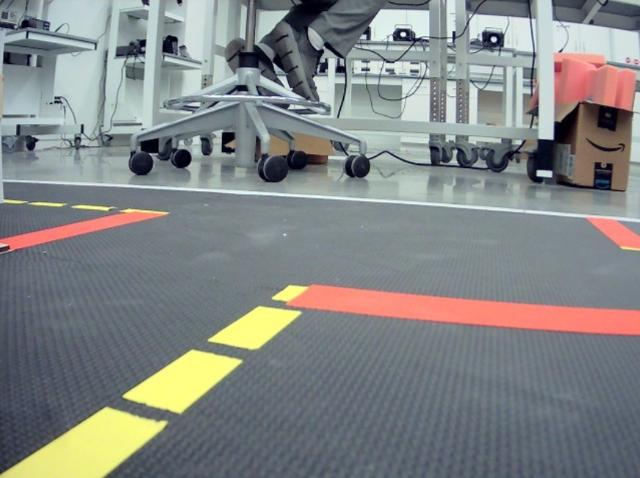redline: (289, 283, 640, 339), (0, 211, 169, 252), (586, 217, 640, 249)
whiteline: (0, 178, 639, 225)
yellowline: (0, 284, 307, 478), (0, 201, 168, 219)
